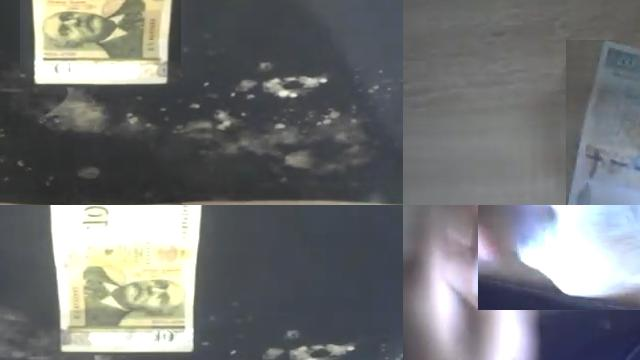10leva: (30, 0, 175, 85), (71, 205, 118, 233), (85, 233, 89, 233)
20leva: (496, 205, 640, 298), (568, 40, 640, 205)
